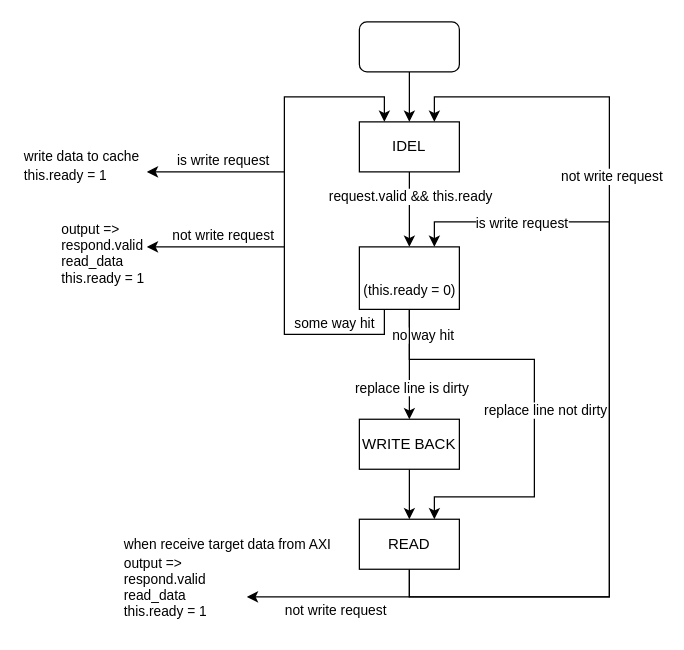
Some shapes in this 684 by 650 pixel diagram are drawn without their labels. Each missing label, with the box of its shape:
LOOKUP: (358, 246, 459, 309)
RESET: (358, 21, 459, 72)
